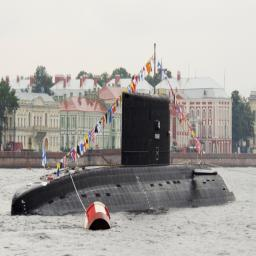submarine: (12, 40, 237, 217)
